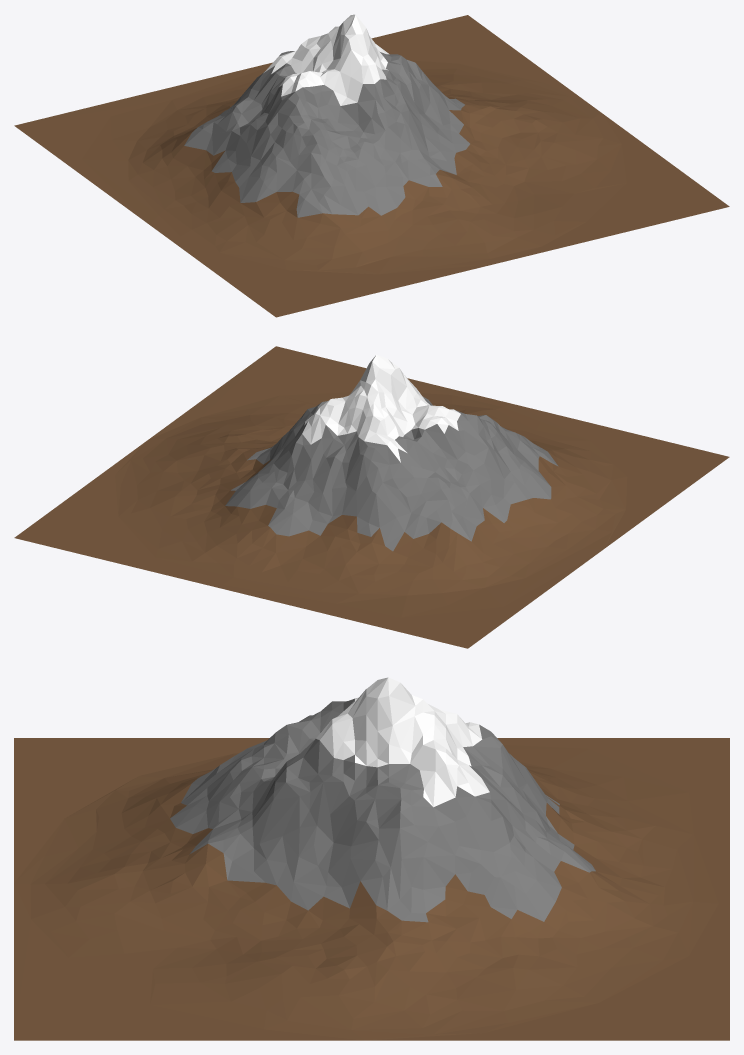
The model's file is mountain01.fbx.
The picture shows the model from 3 angles, top to bottom: view 1: azimuth 30°, elevation 25°; view 2: azimuth 150°, elevation 25°; view 3: azimuth 270°, elevation 25°; orthographic projection. The views are drawn at different scales.
Parts seen in each view (by area): view 1: mountain01; view 2: mountain01; view 3: mountain01.
Boxes of the visible parts, left/top/right/bottom form: mountain01: left=14, top=14, right=729, bottom=317; mountain01: left=14, top=346, right=729, bottom=648; mountain01: left=14, top=677, right=729, bottom=1040.
Size of the model in its own units: 10000 by 3157 by 10000.
